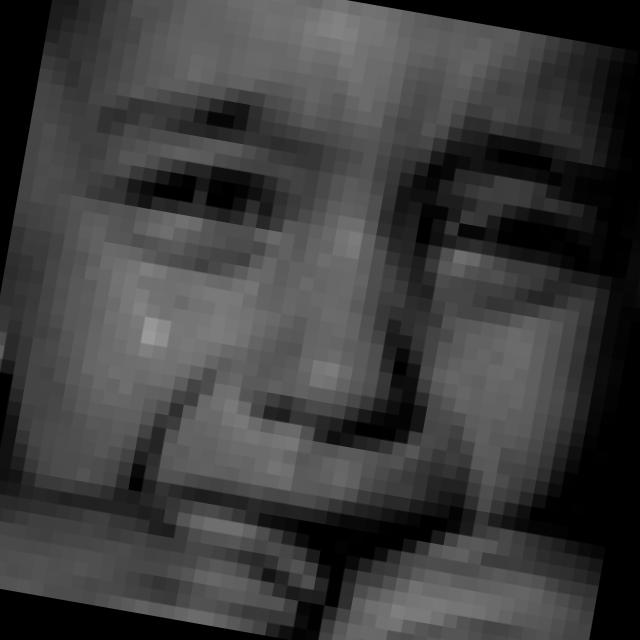sad: (11, 42, 630, 640)
